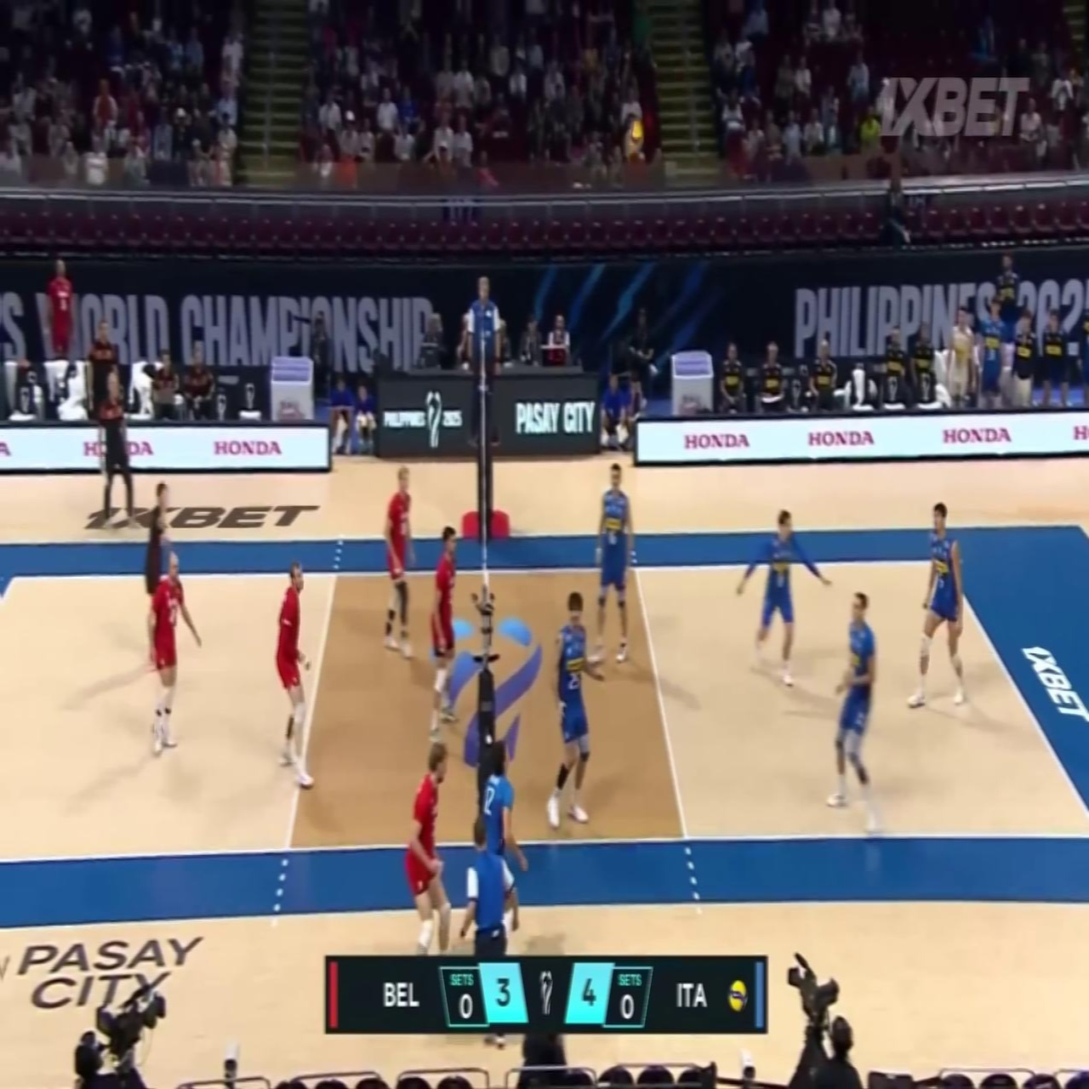ball: (626, 119, 643, 149)
